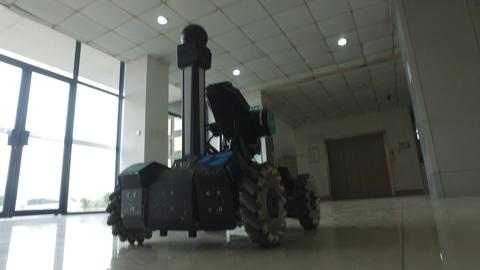chariot: (98, 18, 335, 253)
